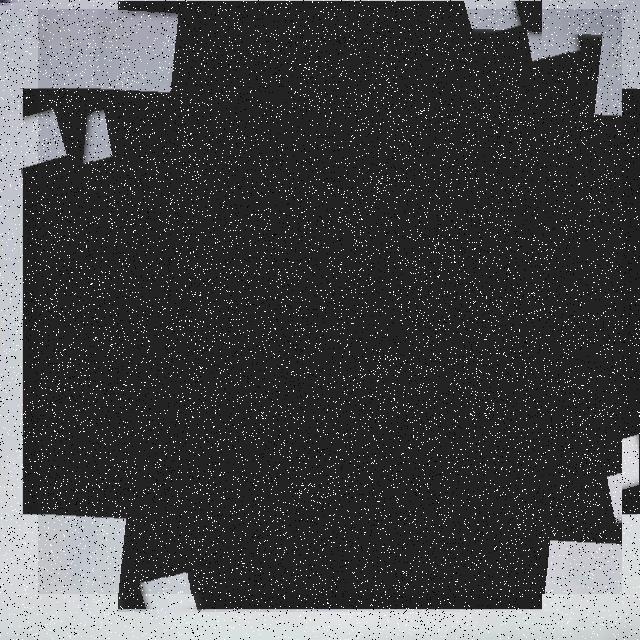dua puluh ribu rupiah: (38, 9, 622, 594)
